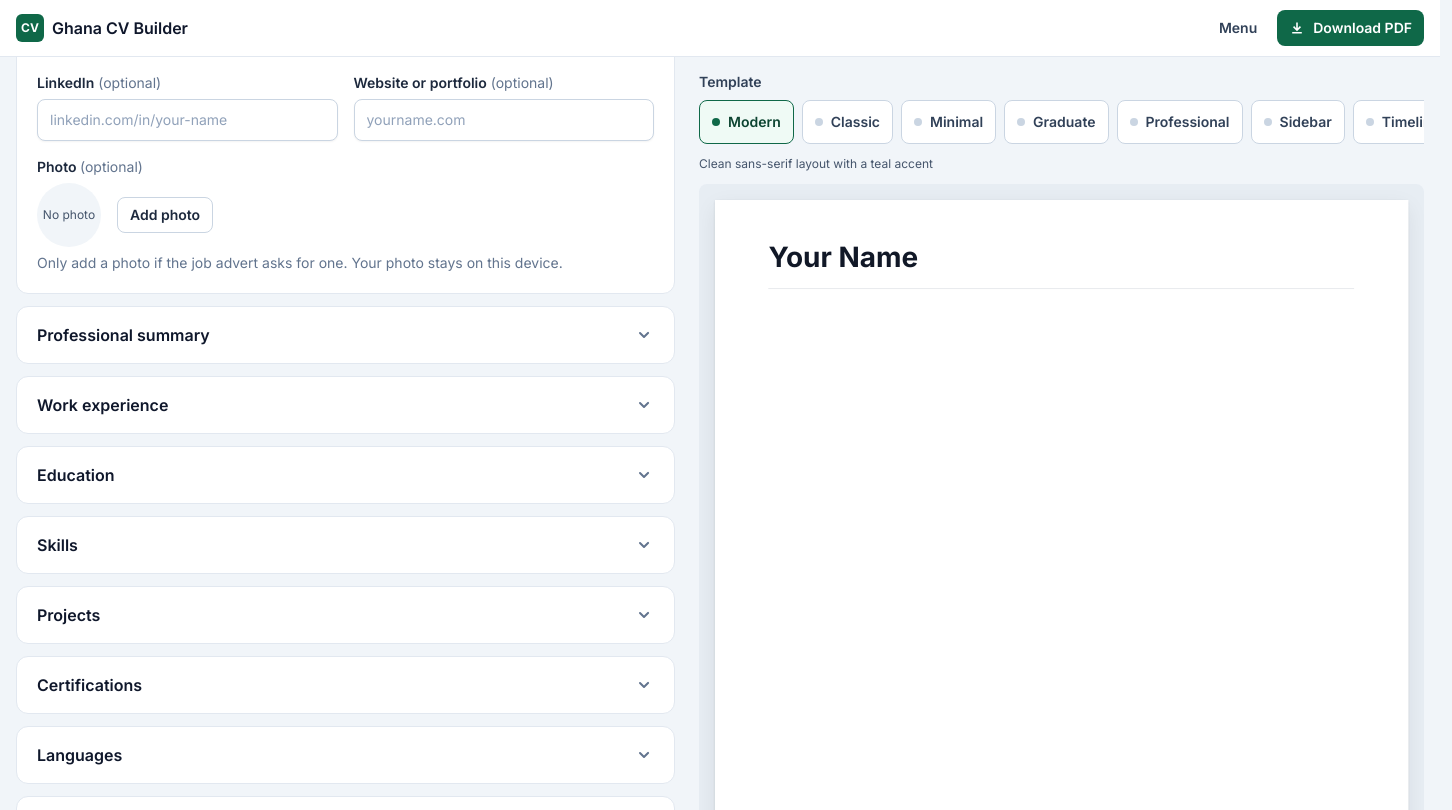
Test: Builder › adds, edits and reorders experience entries
The image size is (1452, 810).
(page scrolled)
Click the button "Work experience" at (103, 405), box [17,377,674,433]
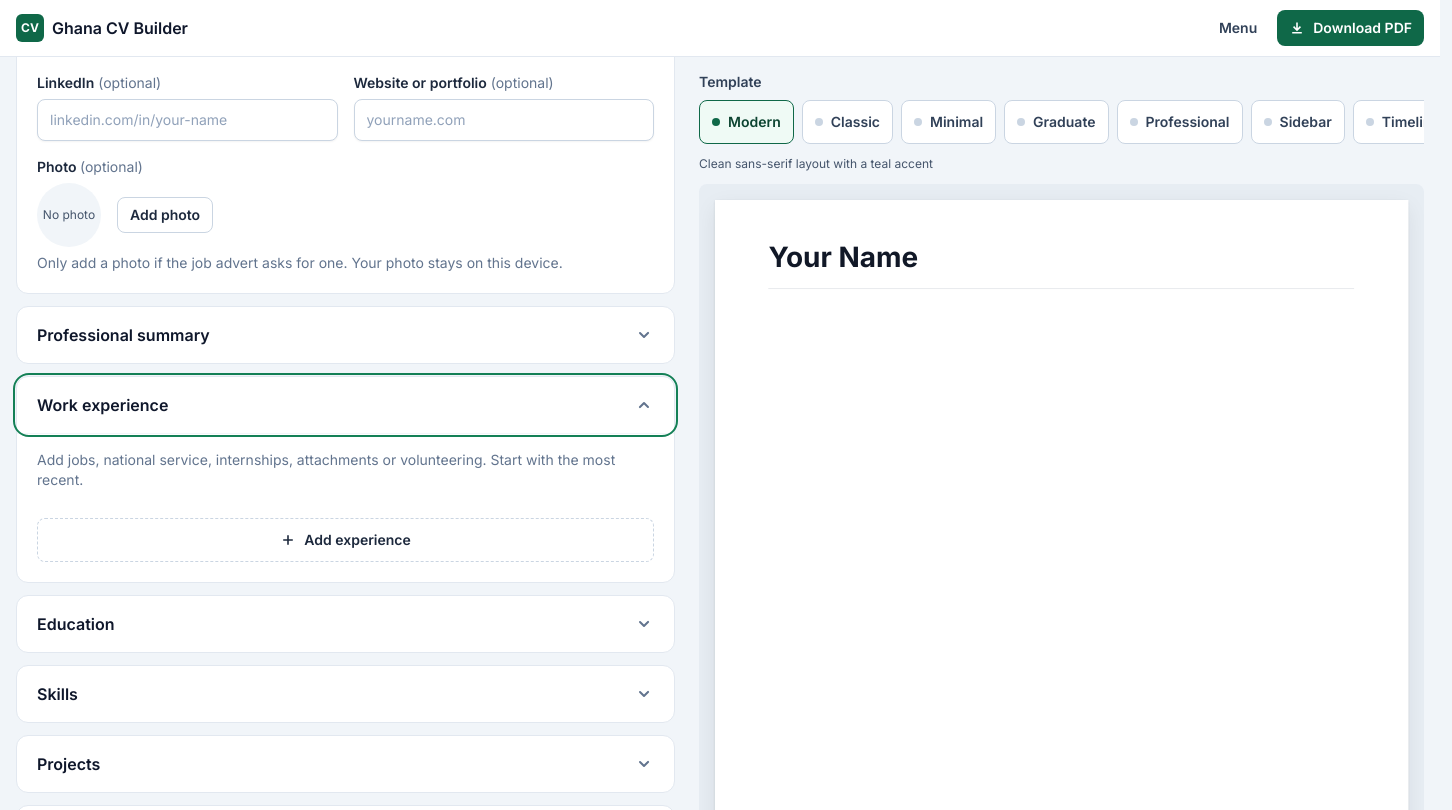
Click the button "Add experience" at (346, 540), box [37,518,654,562]
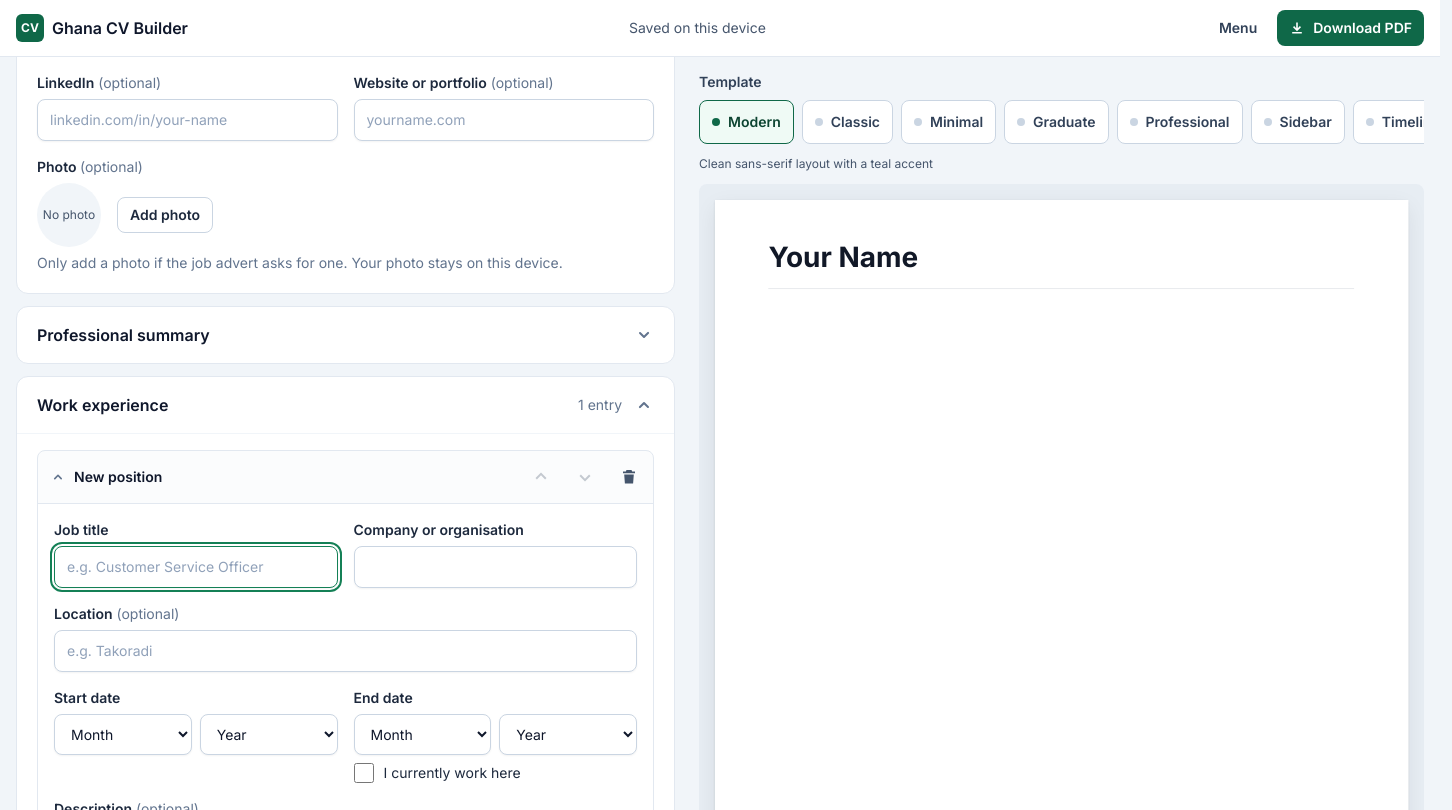
Type "Teacher" into the field labelled "Job title" at (196, 567), box [54,546,338,588]
(page scrolled)
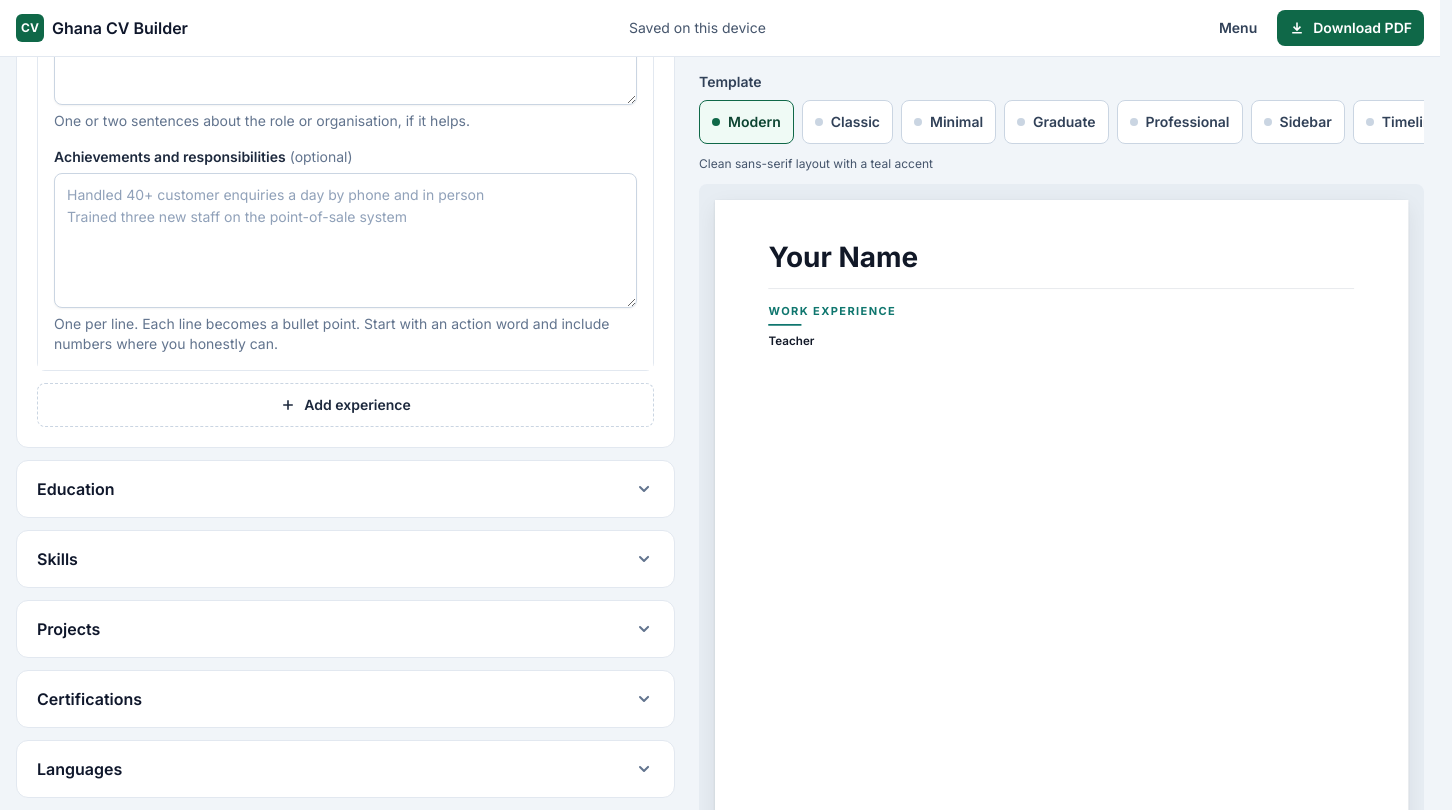
Click the button "Add experience" at (346, 405), box [37,383,654,427]
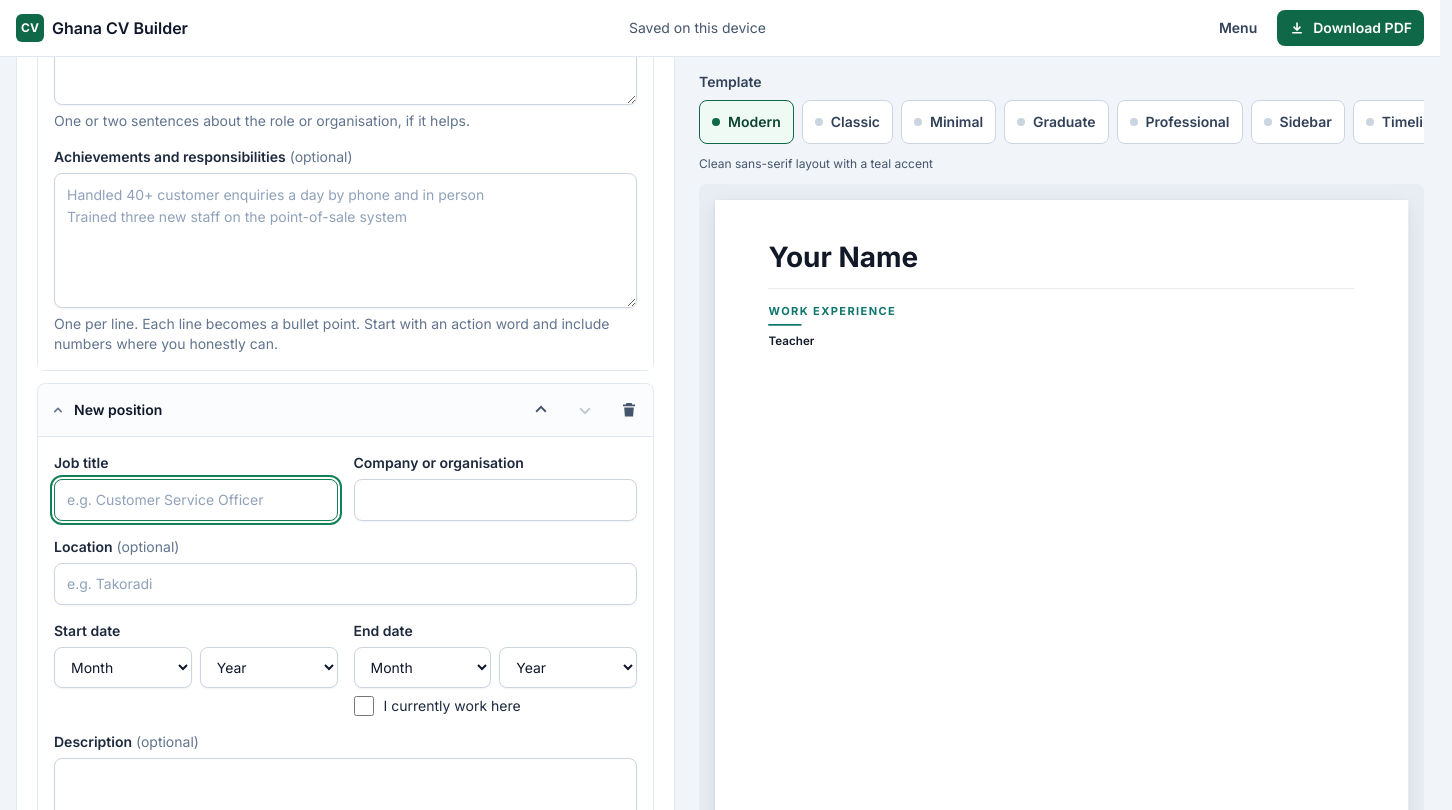
Type "Head Teacher" into the field labelled "Job title" at (196, 500), box [54,479,338,521]
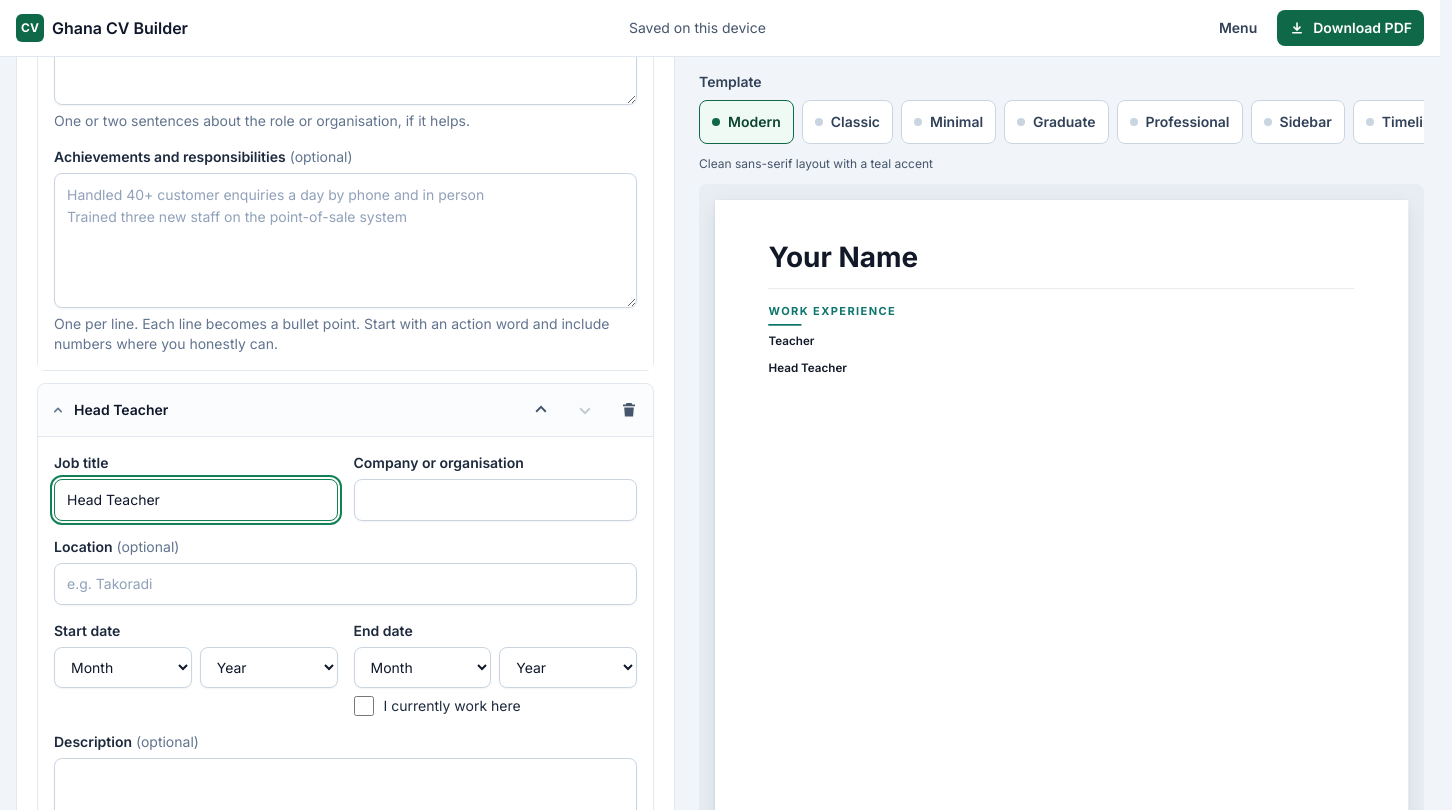
expect the text "Teacher" is shown: met, box [769,333,814,347]
Click the button named "Move Head Teacher up" at (541, 410), box [521,390,561,430]
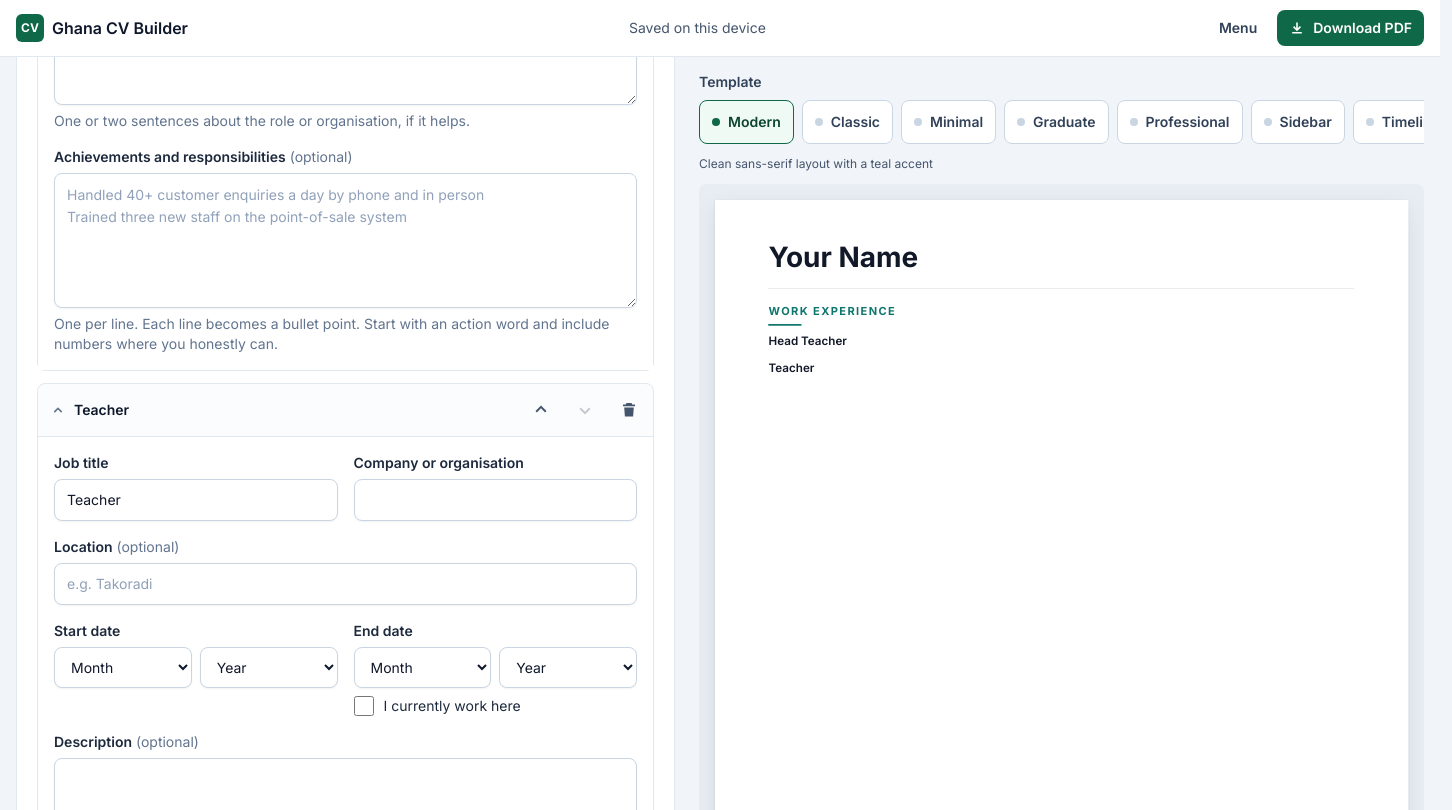
expect the elements "Teacher" read "Head Teacher", "Teacher", in this order: met, box [769,333,847,347]; [769,361,814,375]
